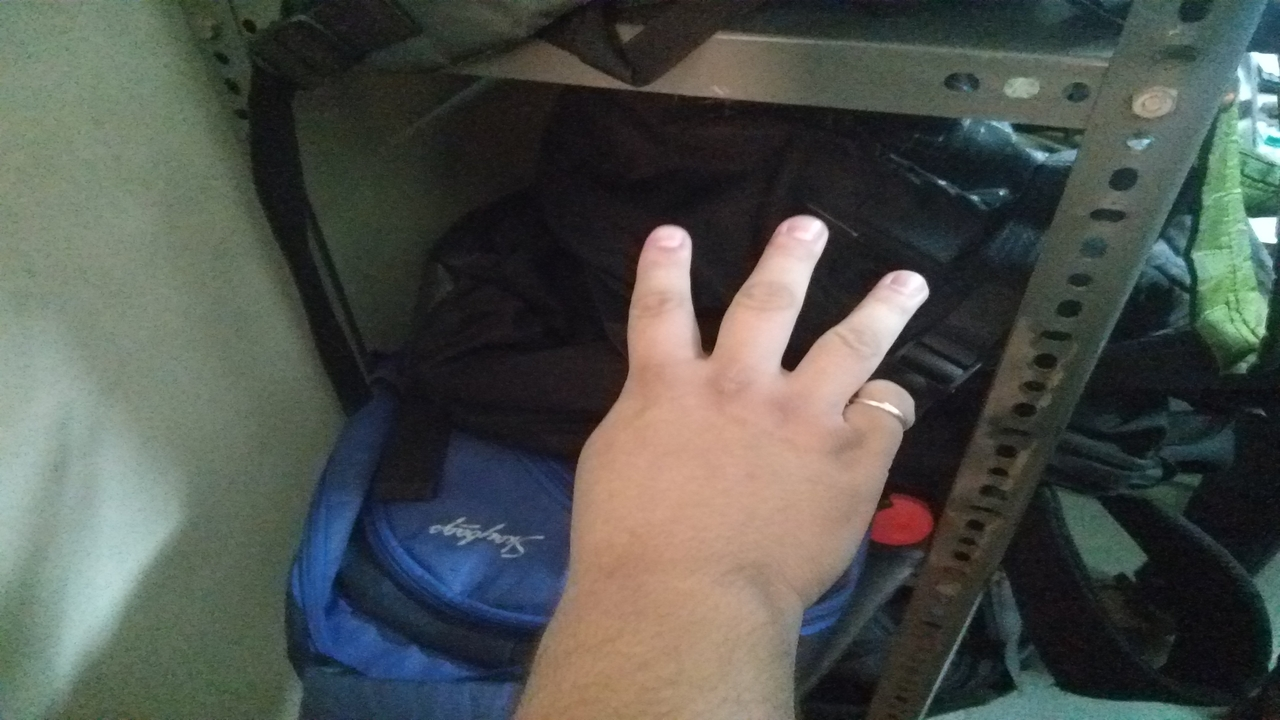fingertip: (760, 200, 846, 264), (856, 256, 942, 320), (634, 214, 702, 274)
